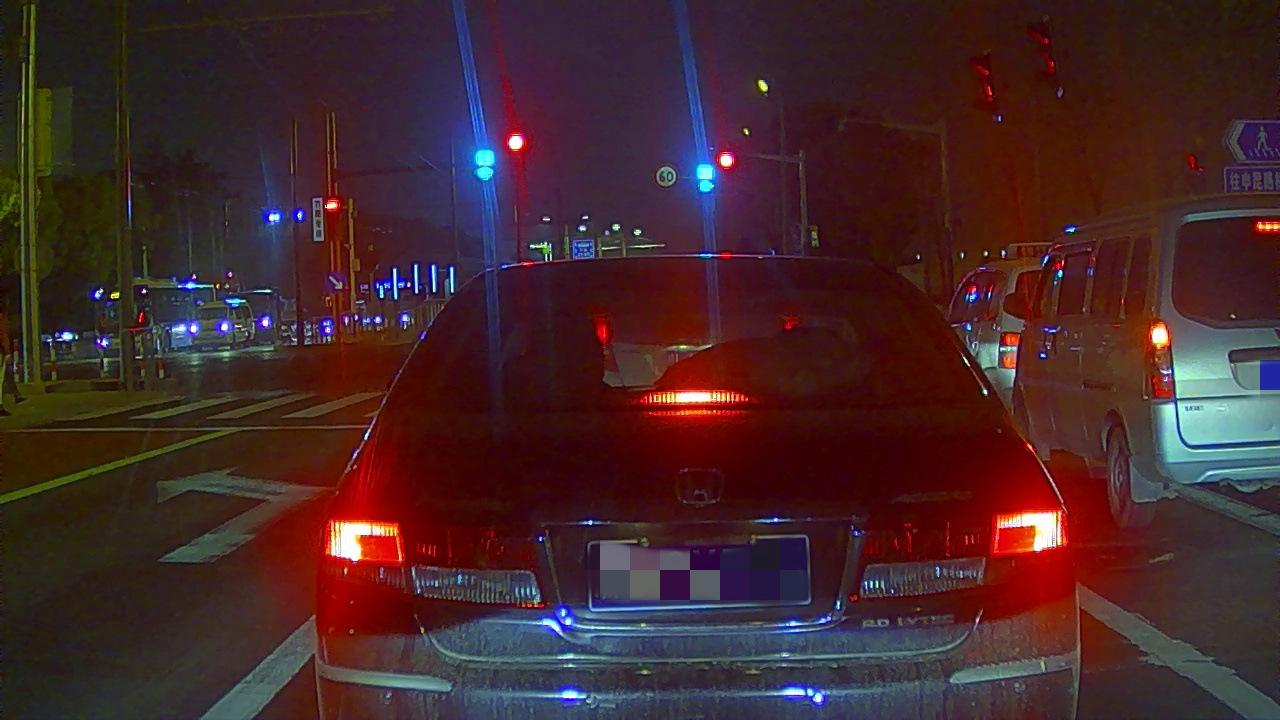traffic_light: (475, 150, 494, 177), (698, 164, 714, 189), (719, 153, 733, 166), (511, 136, 523, 150)
